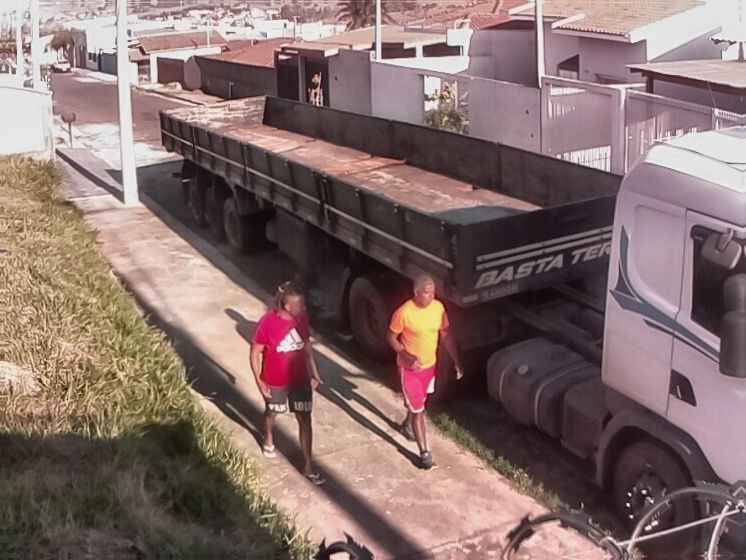person: (247, 280, 329, 489), (383, 274, 468, 475)
